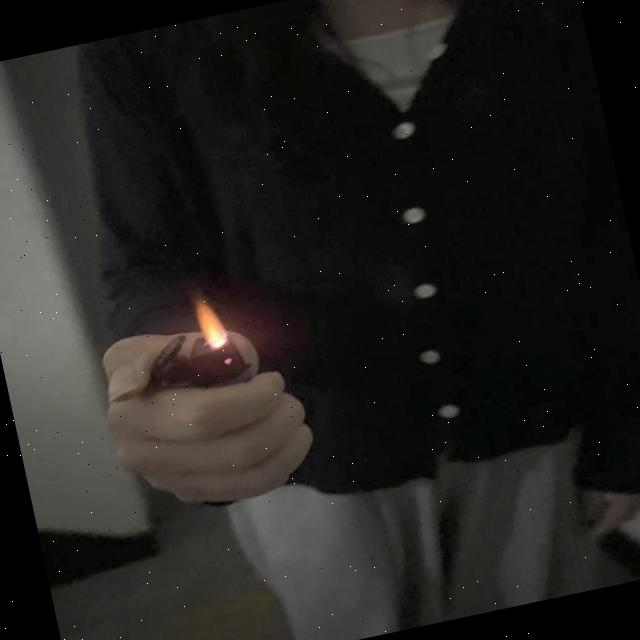fire: (189, 296, 234, 354)
